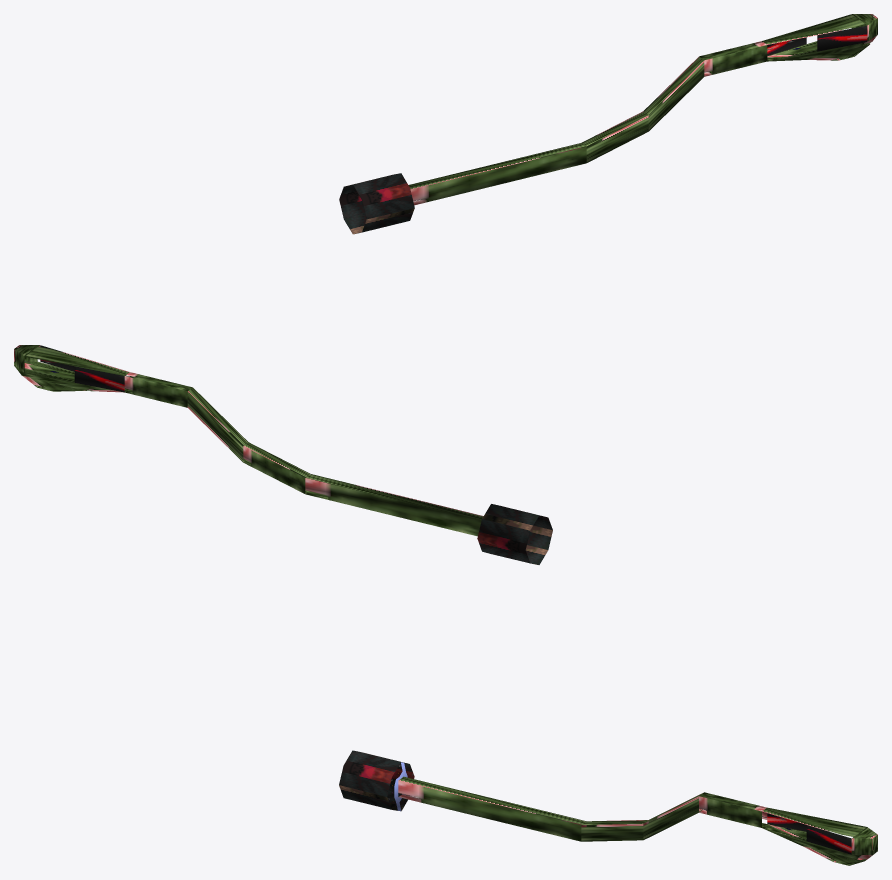
3 views of the same model, one above another, from view 1: azimuth 30°, elevation 25°; view 2: azimuth 150°, elevation 25°; view 3: azimuth 330°, elevation 25° (orthographic).
Visible parts, largest first — view 1: T1L9M005_12; view 2: T1L9M005_12; view 3: T1L9M005_12.
Part boxes in pixels (x1,y1,x2,y2): T1L9M005_12: [339, 14, 877, 234]; T1L9M005_12: [14, 345, 552, 564]; T1L9M005_12: [339, 750, 877, 865].
Bounding box in the file's own units: 2.18 × 0.3174 × 0.2393.
